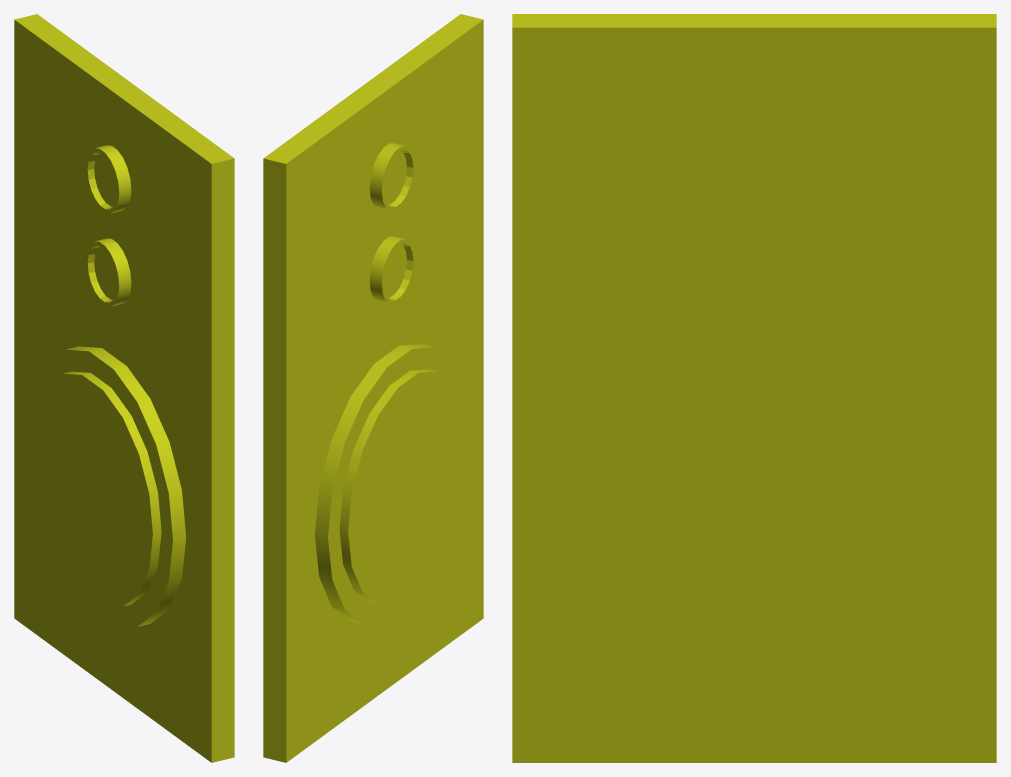
The model's file is door_open_button.FBX.
3 renders of one model, left to right at view 1: azimuth 30°, elevation 25°; view 2: azimuth 150°, elevation 25°; view 3: azimuth 270°, elevation 25°, orthographic. The views are drawn at different scales.
Parts seen in each view (by area): view 1: traffic_o_button; view 2: traffic_o_button; view 3: traffic_o_button.
Boxes of the visible parts, <box> form: traffic_o_button: <box>14,14,234,762</box>; traffic_o_button: <box>263,14,483,762</box>; traffic_o_button: <box>512,14,996,762</box>.
Bounding box in the file's own units: 1.18 × 15.13 × 9.04.
